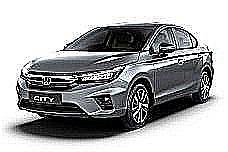Car hood: (30, 52, 140, 73)
Fender - -F-L-: (120, 50, 158, 116)
Front bumper: (14, 76, 129, 124)
Headlight - -L-: (78, 64, 128, 86)
Headlight - -R-: (16, 65, 32, 80)
Passenger-s door - -F-L-: (153, 23, 183, 93)
Passenger-s door - -R-L-: (175, 24, 202, 93)
Rear bumper: (200, 50, 216, 72)
Side bumper - -L-: (152, 81, 202, 107)
Side mirror - -L-: (156, 40, 179, 57)
